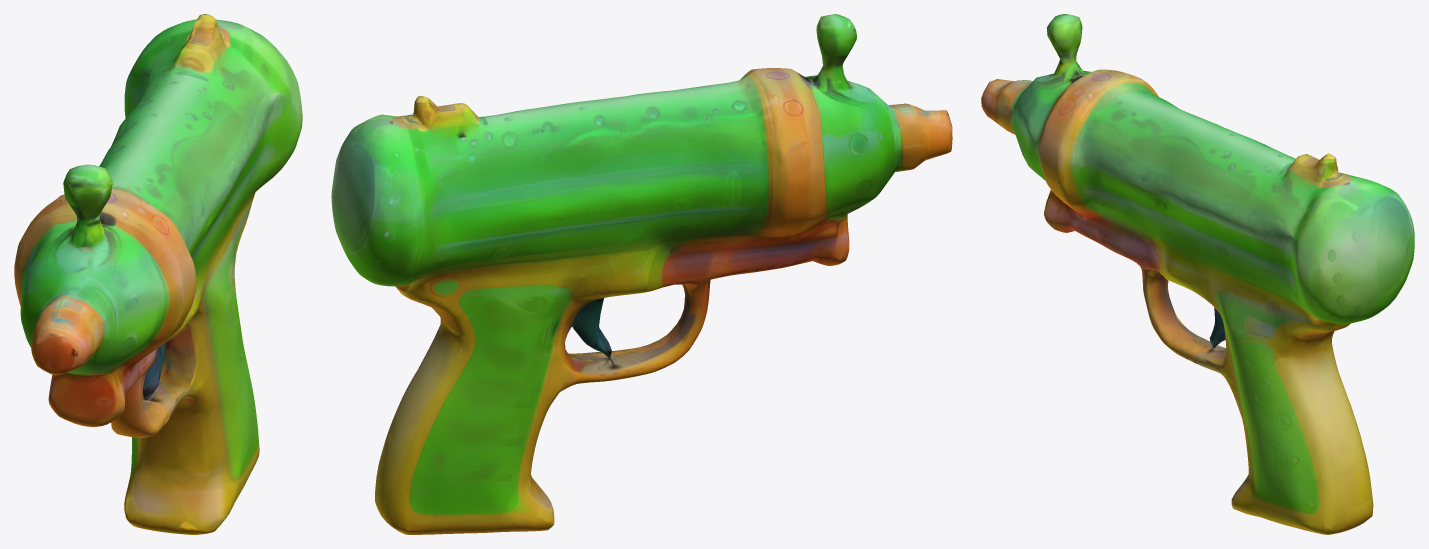
The model's file is A_colorful_toy_water__0204173219_refine.fbx.
3 renders of one model, left to right at view 1: azimuth 30°, elevation 25°; view 2: azimuth 150°, elevation 25°; view 3: azimuth 270°, elevation 25°, orthographic. The views are drawn at different scales.
Parts seen in each view (by area): view 1: Mesh_0; view 2: Mesh_0; view 3: Mesh_0.
Boxes of the visible parts, x1,y1,x2,y2 form: Mesh_0: [14, 14, 302, 534]; Mesh_0: [331, 14, 952, 534]; Mesh_0: [981, 14, 1414, 534].
Size of the model in its own units: 115 by 120 by 116.
Materials: 1 (1 with a texture image).
